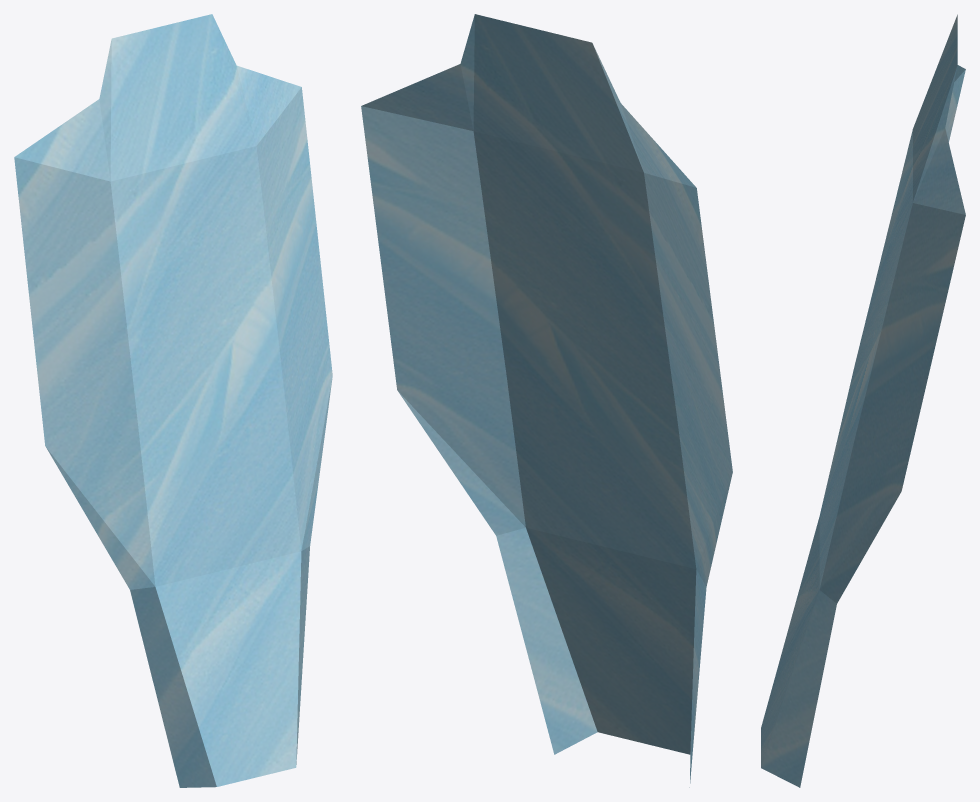
Rendered from FrozenCryoGlass1.fbx.
The picture shows the model from 3 angles, left to right: view 1: azimuth 30°, elevation 25°; view 2: azimuth 150°, elevation 25°; view 3: azimuth 270°, elevation 25°; orthographic projection. The views are drawn at different scales.
Visible parts, largest first — view 1: SM_Bld_Wall_Pods_Glass_01.001; view 2: SM_Bld_Wall_Pods_Glass_01.001; view 3: SM_Bld_Wall_Pods_Glass_01.001.
Part boxes in pixels (<box>): SM_Bld_Wall_Pods_Glass_01.001: <box>14,14,332,787</box>; SM_Bld_Wall_Pods_Glass_01.001: <box>361,14,732,787</box>; SM_Bld_Wall_Pods_Glass_01.001: <box>761,14,965,787</box>.
Bounding box in the file's own units: 91.49 × 210 × 54.33.
